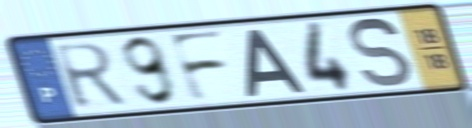4: (301, 18, 355, 95)
9: (118, 34, 180, 108)
A: (244, 27, 309, 99)
F: (165, 28, 232, 105)
R: (50, 40, 130, 111)
S: (347, 15, 415, 90)
